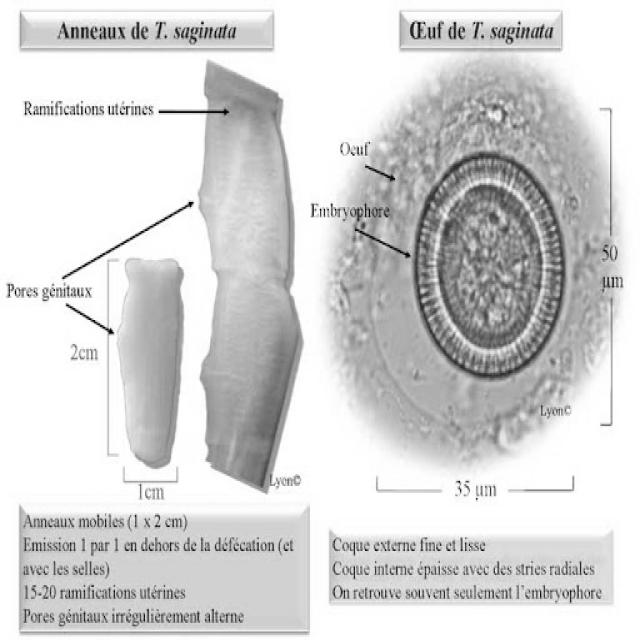Taenia Sp: (406, 141, 570, 379)
